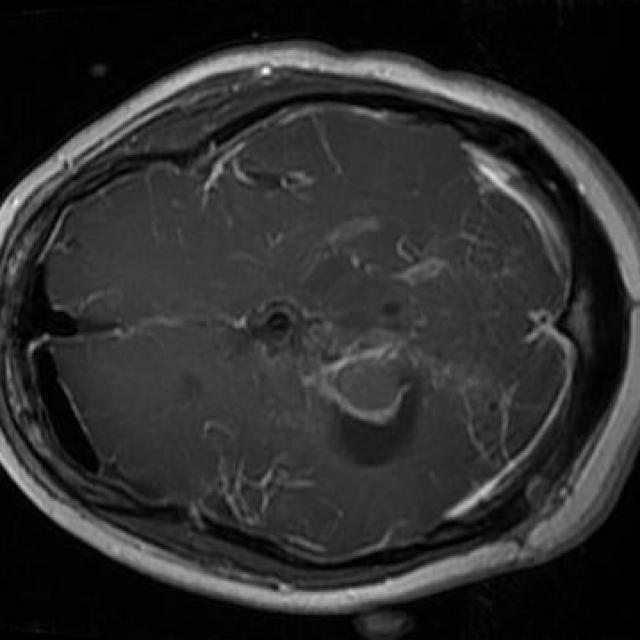glioma: (246, 301, 423, 465)
